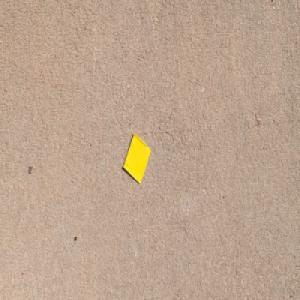PlasticPart: (123, 132, 152, 185)
